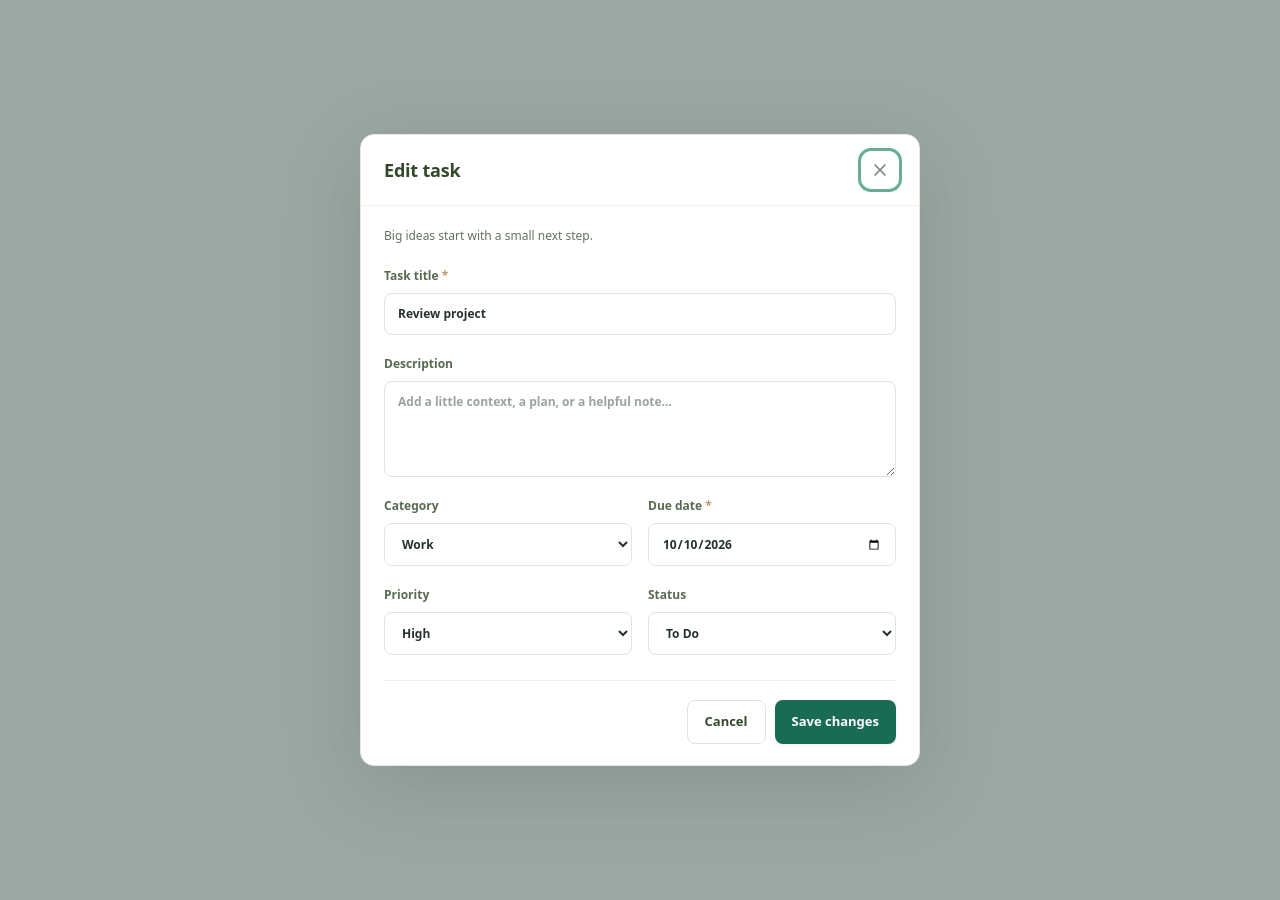
Scenario: task interactions › preserves edited fields and keeps the form open after a failed save
The width and height of the screenshot is (1280, 900).
Expected: the date field labelled "Due date *" holds "2026-10-10", [648,523,896,566]
Step 1. Select "Low" in the dropdown labelled "Priority" → [508, 634], box [384,612,632,655]
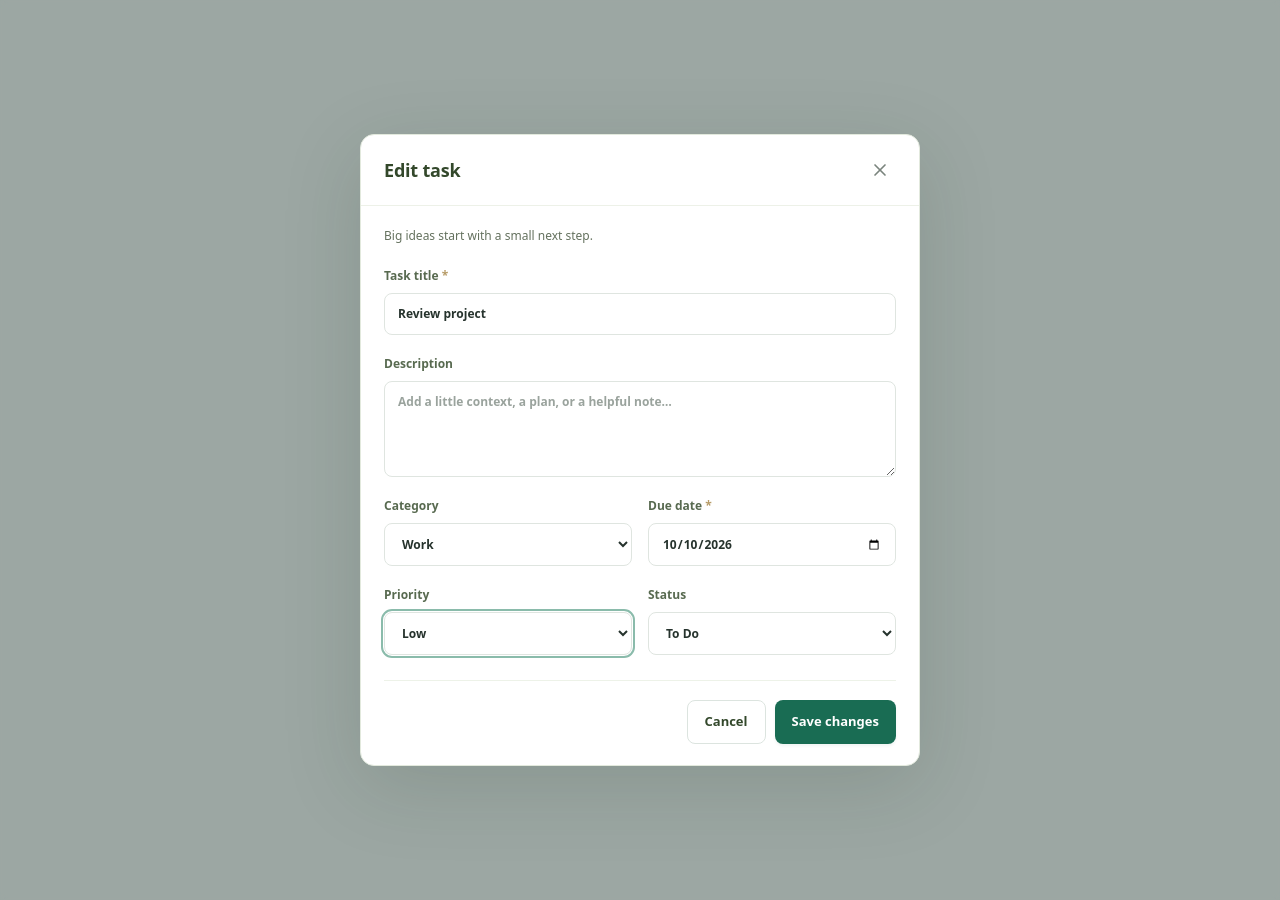
Step 2. Click the button "Save changes" → [835, 722], box [774,700,896,744]
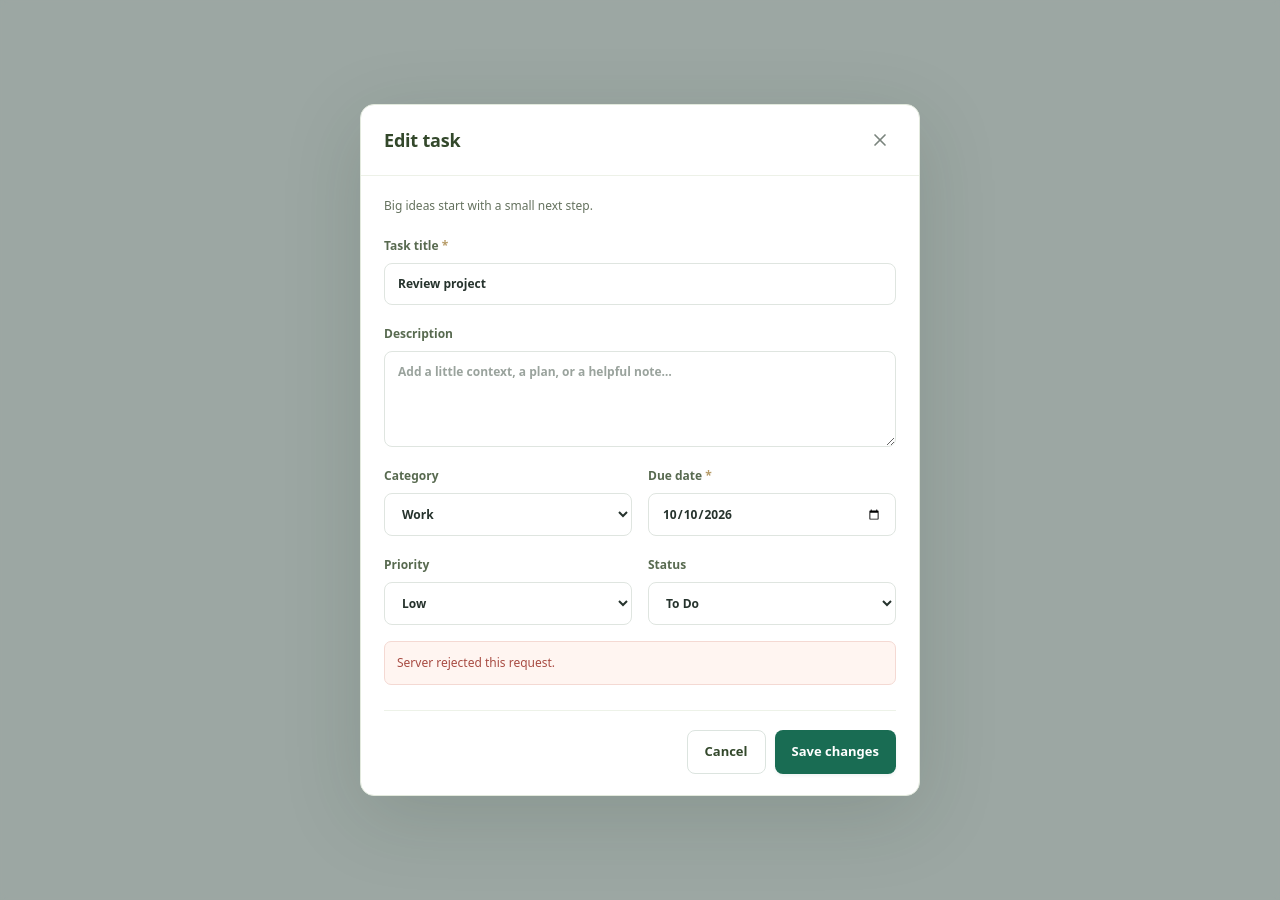
Expected: the message "Server rejected this request." is shown, [384,641,896,685]
